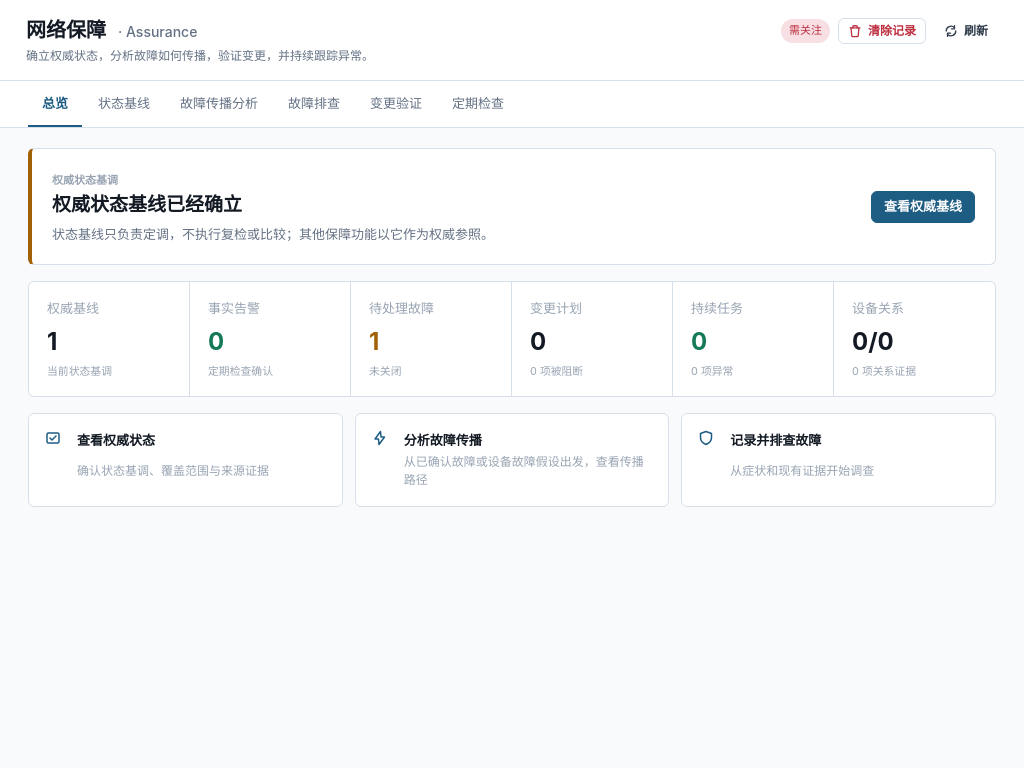
Test: Network Assurance user flow › shows baseline comparison, LLM status, citations and next actions for incidents
The width and height of the screenshot is (1024, 768).
Expected: the heading "权威状态基线已经确立" is shown, 52,193 -> 242,216
Click the tab "故障排查". click: (314, 104)
box: 274,81 -> 354,127
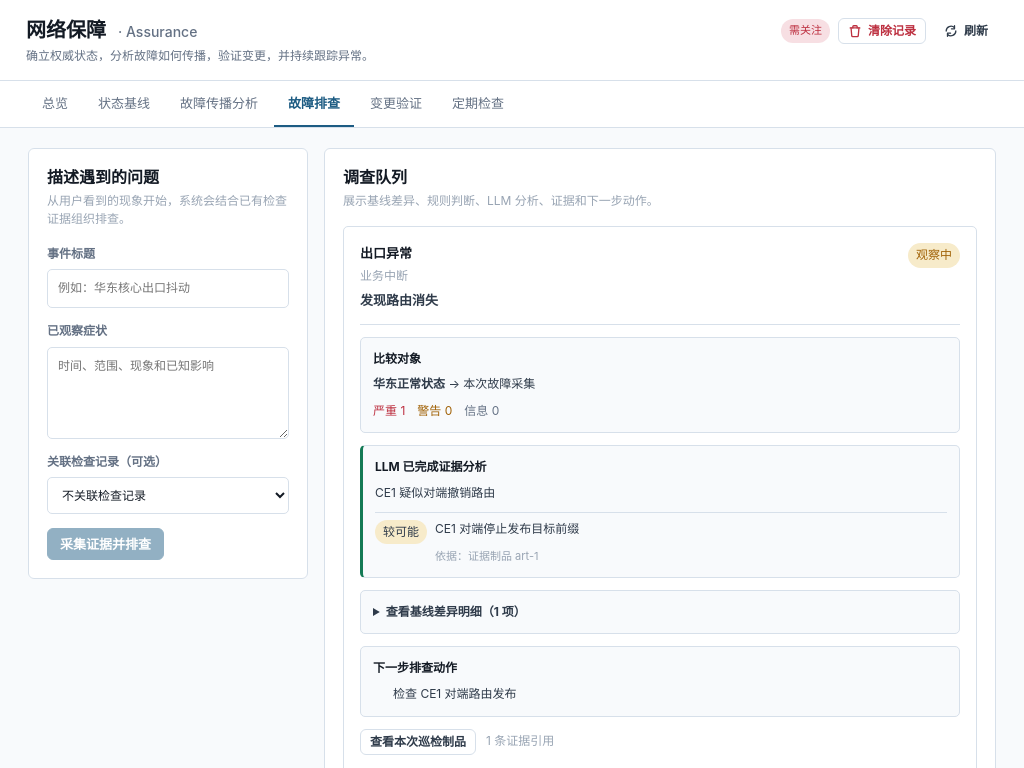
Expected: the text "华东正常状态" is shown, 373,376 -> 445,391
Expected: the heading "LLM 已完成证据分析" is shown, 375,459 -> 487,474
Expected: the text "CE1 疑似对端撤销路由" is shown, 375,485 -> 495,500
